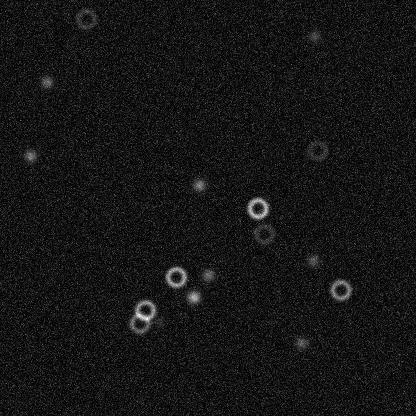Ring: (127, 310, 151, 334), (252, 221, 276, 245), (164, 264, 188, 288), (328, 277, 352, 301), (73, 6, 97, 30), (305, 138, 329, 162), (245, 196, 269, 220), (133, 298, 157, 322)
Spot: (185, 289, 201, 305), (305, 252, 321, 268), (200, 267, 216, 283), (22, 147, 38, 163), (38, 73, 54, 89), (151, 313, 167, 329), (293, 334, 309, 350), (306, 28, 322, 44), (191, 177, 207, 193)
